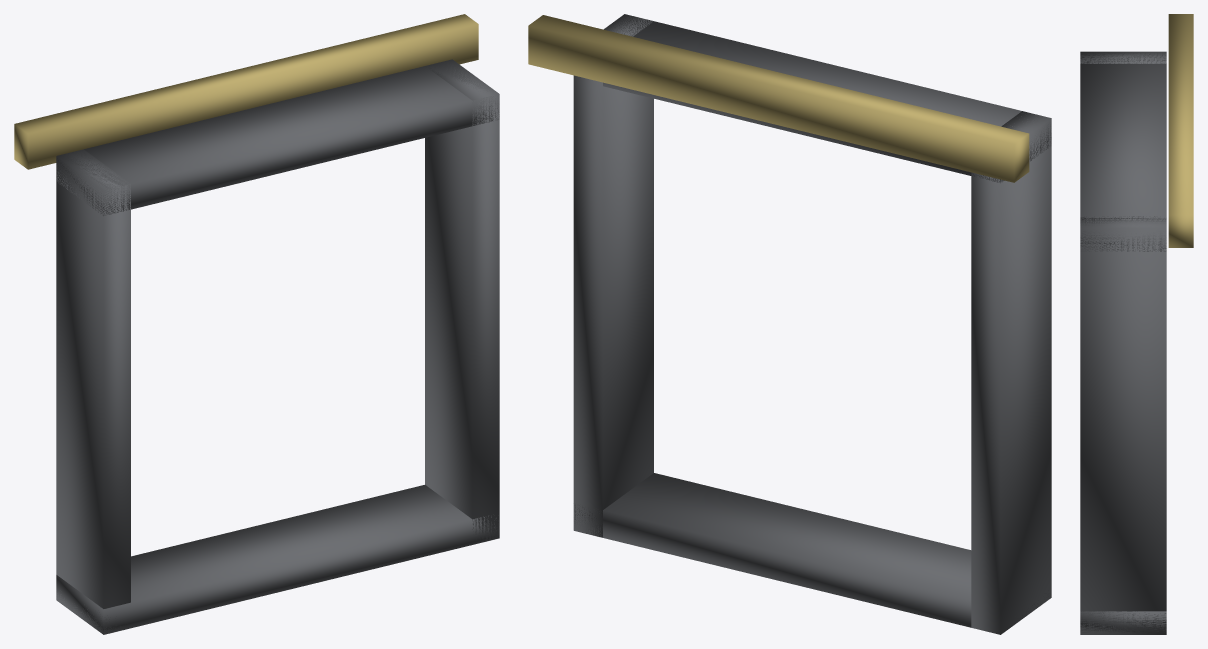
The model's file is egress_window_motel_w100_h110_s88_d24.glb.
3 renders of one model, left to right at view 1: azimuth 30°, elevation 25°; view 2: azimuth 150°, elevation 25°; view 3: azimuth 270°, elevation 25°, orthographic. The views are drawn at different scales.
Parts seen in each view (by area): view 1: world; view 2: world; view 3: world.
Boxes of the visible parts, left/top/right/bottom form: world: left=14, top=14, right=499, bottom=634; world: left=528, top=14, right=1051, bottom=634; world: left=1080, top=14, right=1193, bottom=634.
Size of the model in its own units: 1.32 by 1.32 by 0.315.
